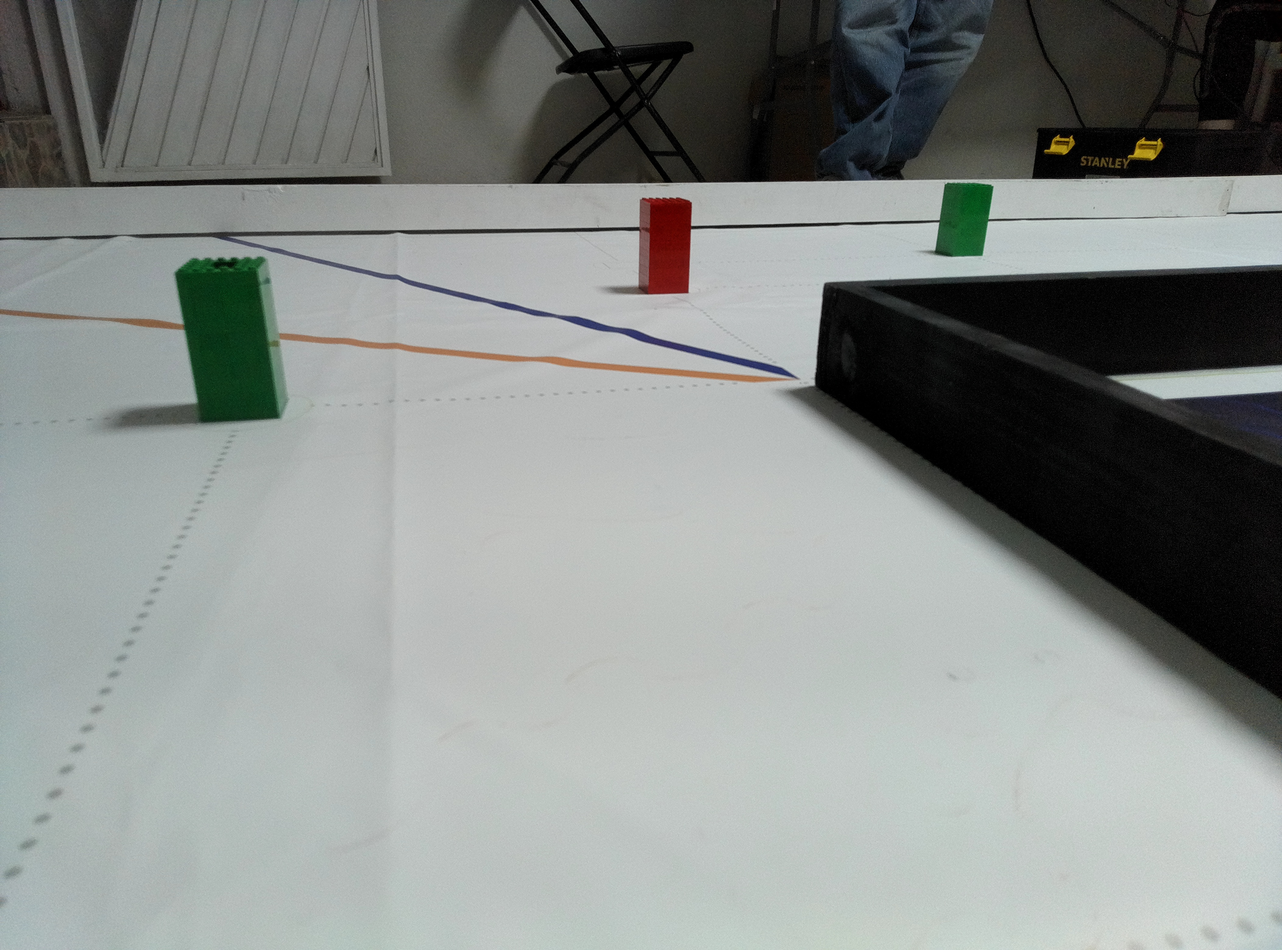greenbox: (170, 255, 292, 427), (933, 182, 995, 258)
redbox: (636, 193, 693, 295)
